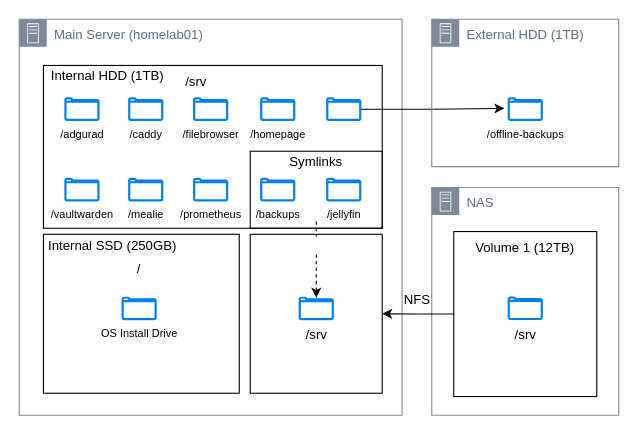
Image size: 638x435. Some labels were removed from this diagram. Here are the shapes that lost their labels. From the top down, the centre of each, then its label:
At (343,108): "/local-backups".
At (316,244): "/mnt/synology/srv".
